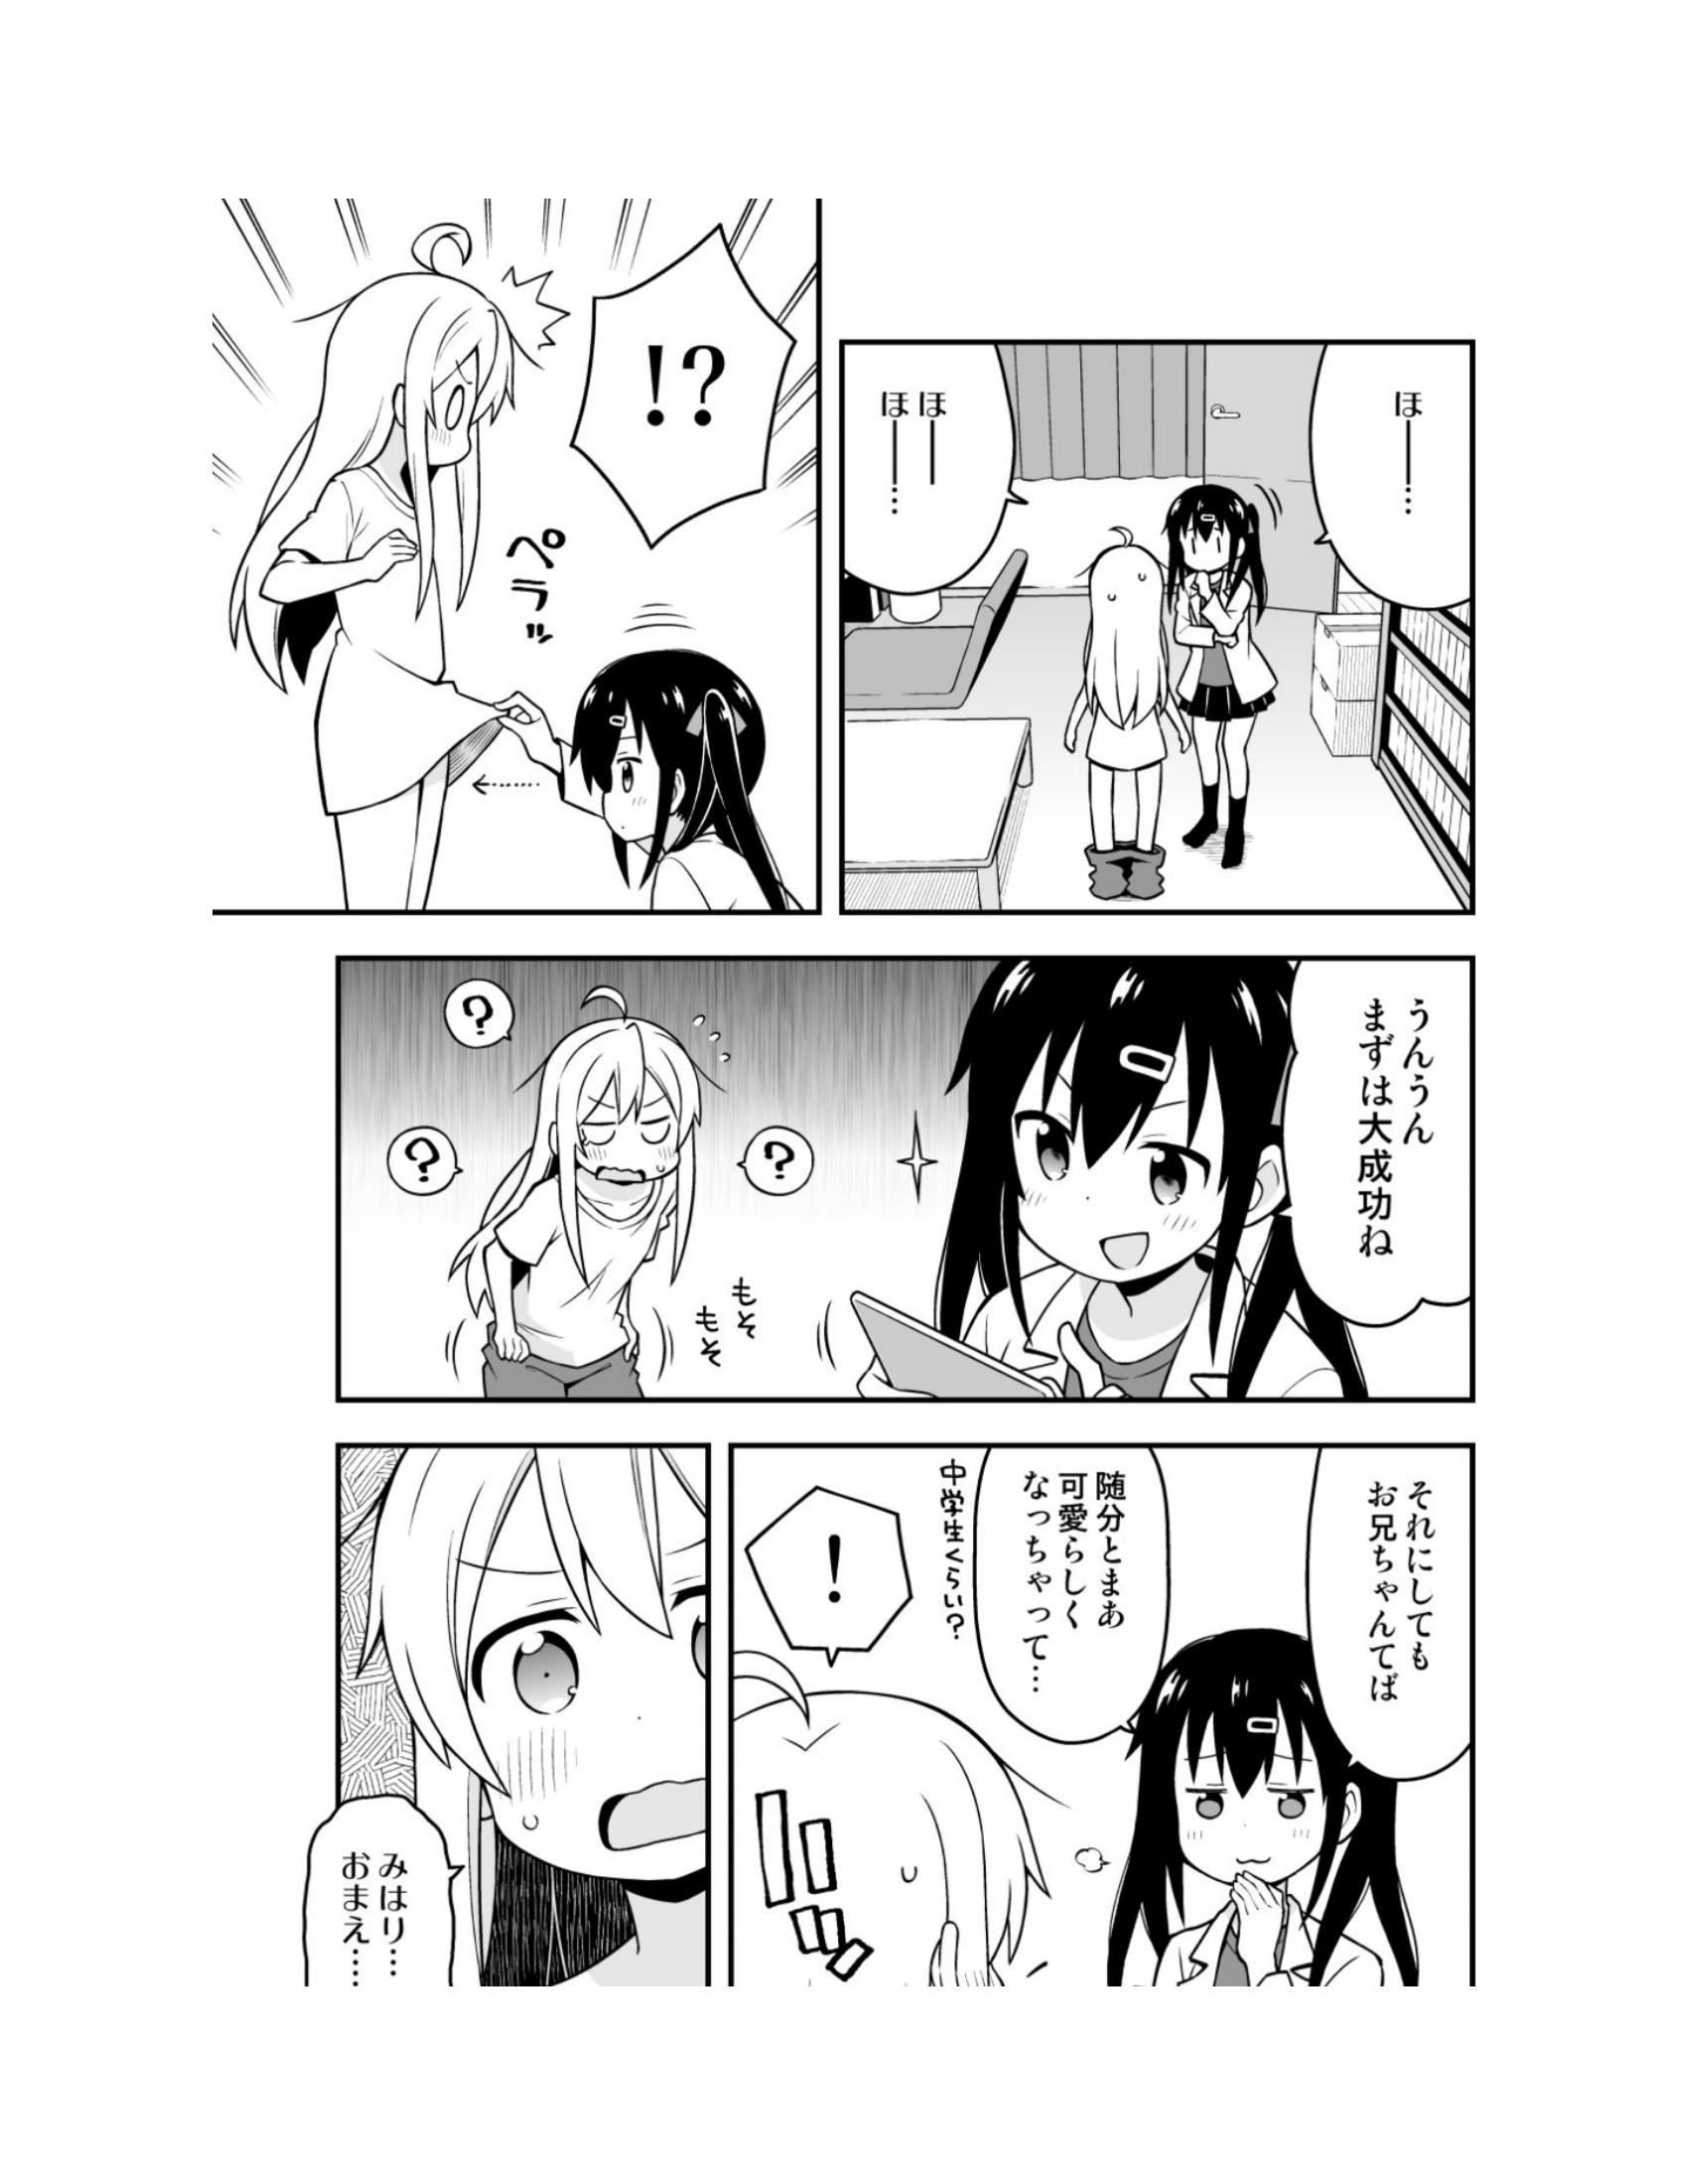a: (911, 1413, 1163, 1750), (1271, 952, 1459, 1319), (271, 1798, 493, 1993), (1321, 1450, 1470, 1739)
